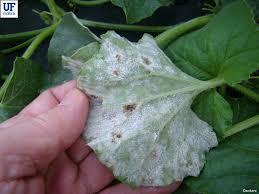powdery_mildew: (59, 33, 224, 185)
